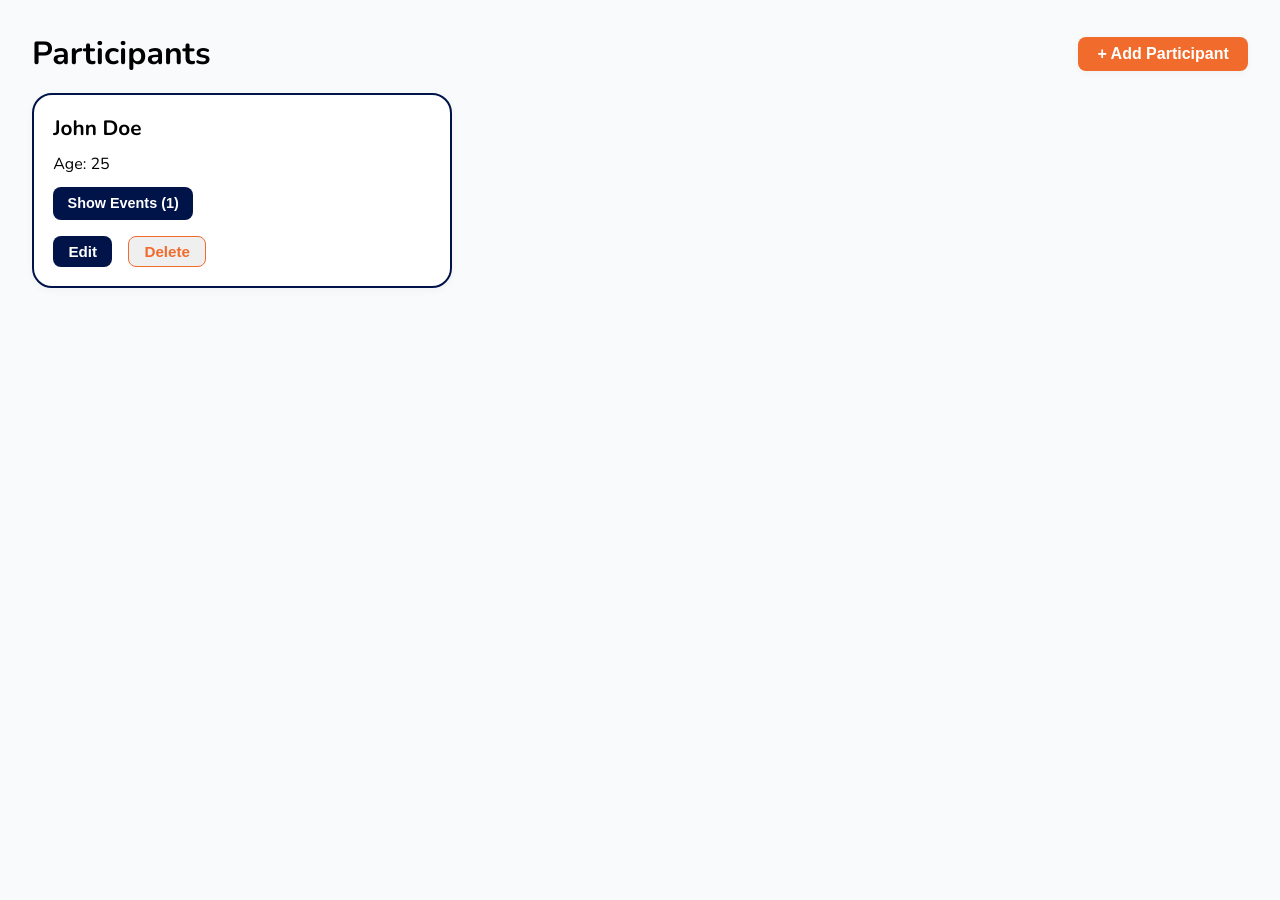
Scenario: ParticipantsHome Component - Unit Tests › Events Modal Functionality › should open events modal when Show Events button is clicked
The width and height of the screenshot is (1280, 900).
Click the button "Show Events (1)" at (123,203), box [53,187,193,220]
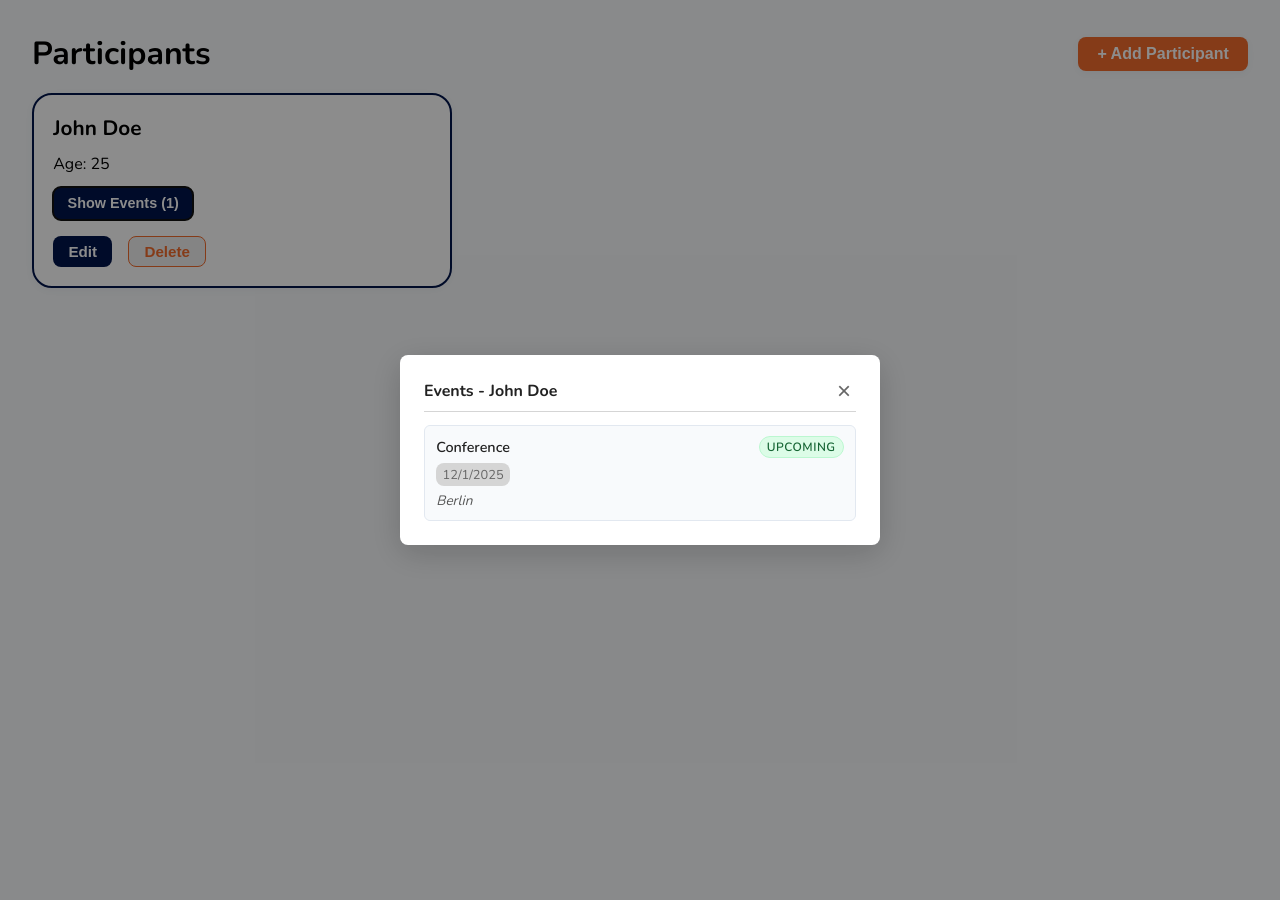
expect the heading "Events - John Doe" is shown: met, box [424,380,557,402]
expect the text "Conference" is shown: met, box [436,437,510,457]
expect the text "Berlin" is shown: met, box [436,491,472,510]
